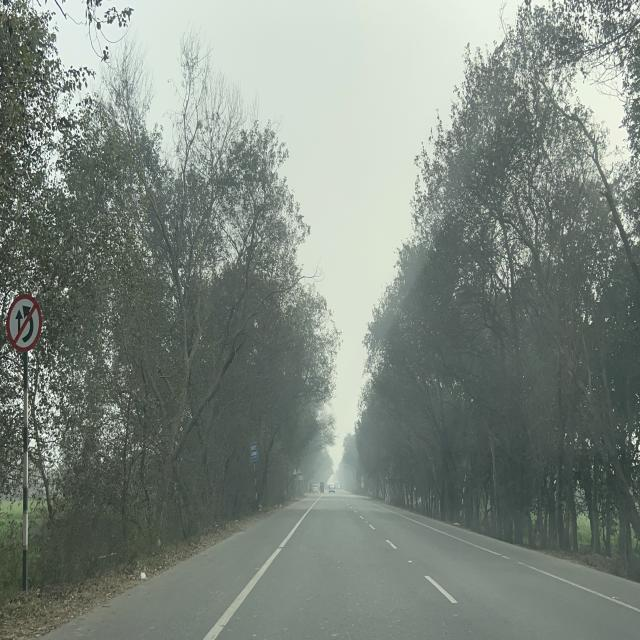OVERTAKING_PROHIBITED: (5, 291, 42, 352)
